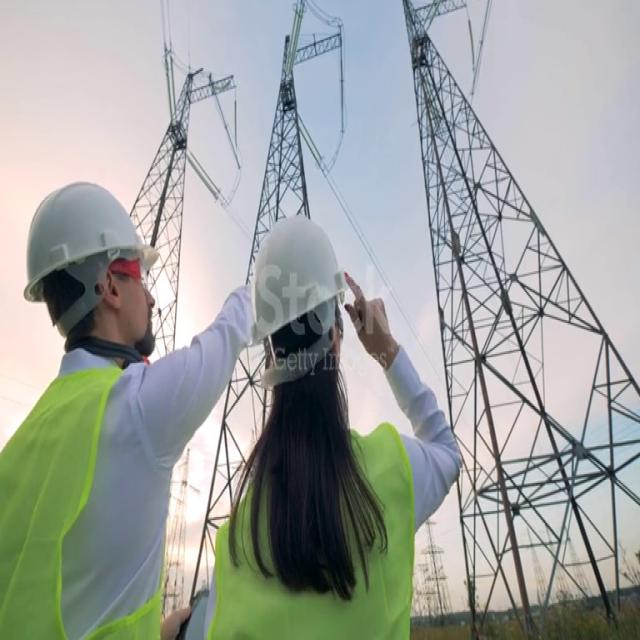capacete: (12, 175, 171, 318), (245, 207, 353, 393)
